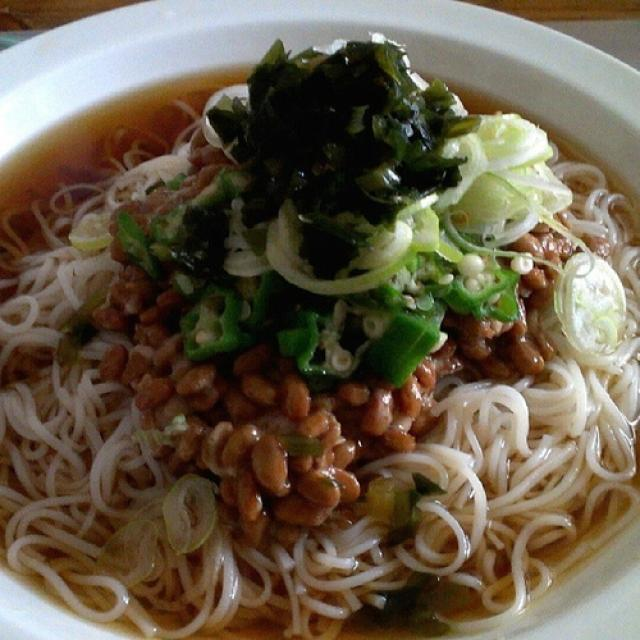面条主食: (5, 55, 621, 611)
